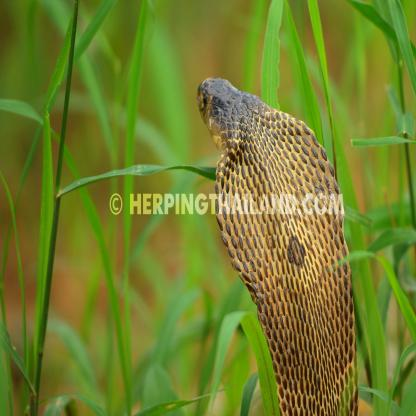Snake: (196, 73, 362, 416)
